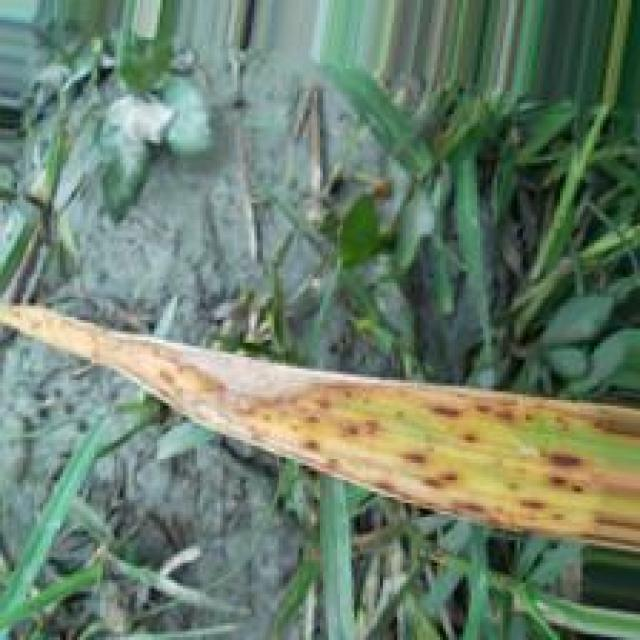Narrow_Brown_Leaf_Spot: (0, 304, 640, 554)
